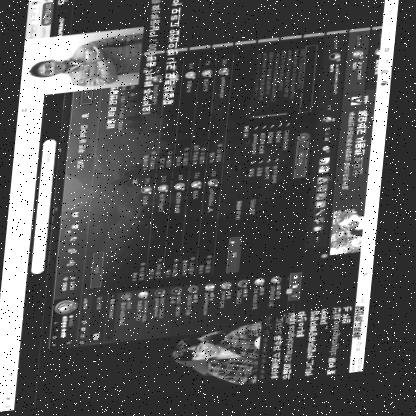donation: (20, 0, 185, 129)
streamer: (176, 326, 269, 398)
